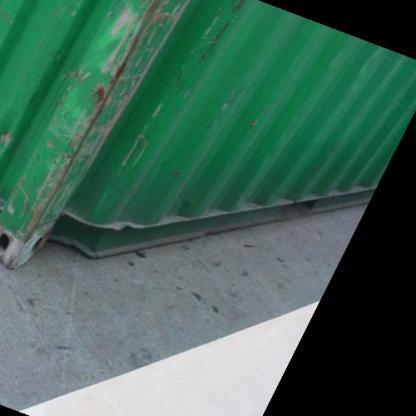Damage: (40, 3, 182, 229)
